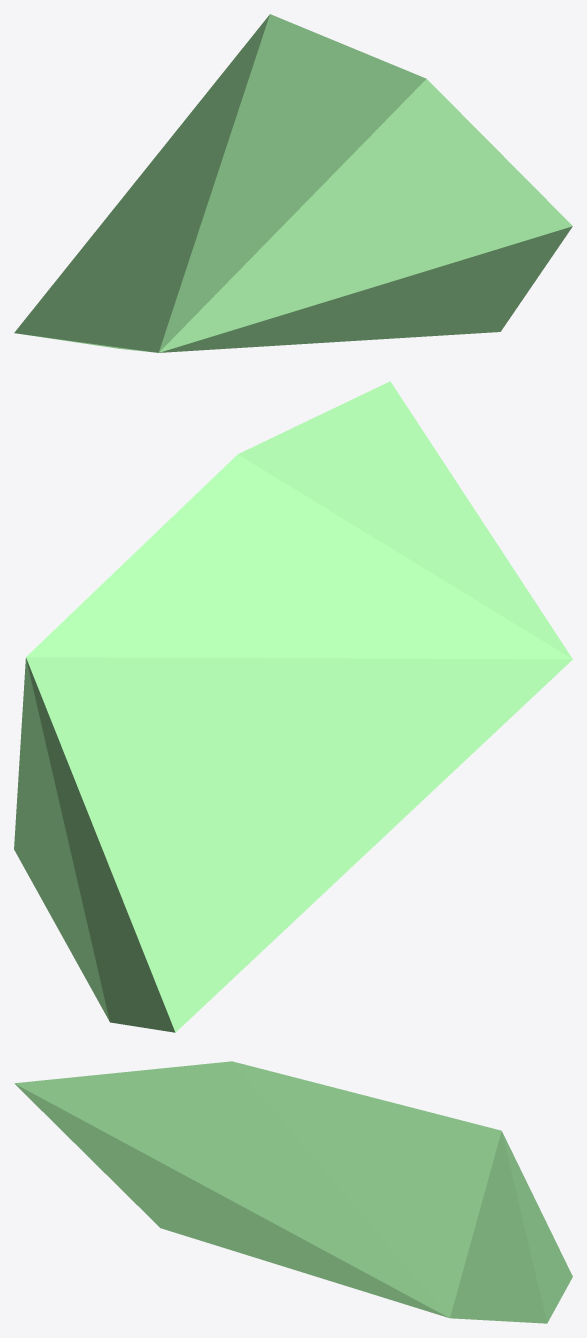
Rendered from dvkr_robot_L3_sx_respondable_TOOL1_coll_4.dae.
3 renders of one model, top to bottom at view 1: azimuth 30°, elevation 25°; view 2: azimuth 150°, elevation 25°; view 3: azimuth 270°, elevation 25°, orthographic. The views are drawn at different scales.
Visible parts, largest first — view 1: Node_0000023514CD9290; view 2: Node_0000023514CD9290; view 3: Node_0000023514CD9290.
Boxes of the visible parts, box(x1,y1,x2,y2) form: Node_0000023514CD9290: box(14, 14, 572, 352); Node_0000023514CD9290: box(14, 381, 572, 1032); Node_0000023514CD9290: box(14, 1061, 572, 1323).
Size of the model in its own units: 0.00235 by 0.00236 by 0.00409.
